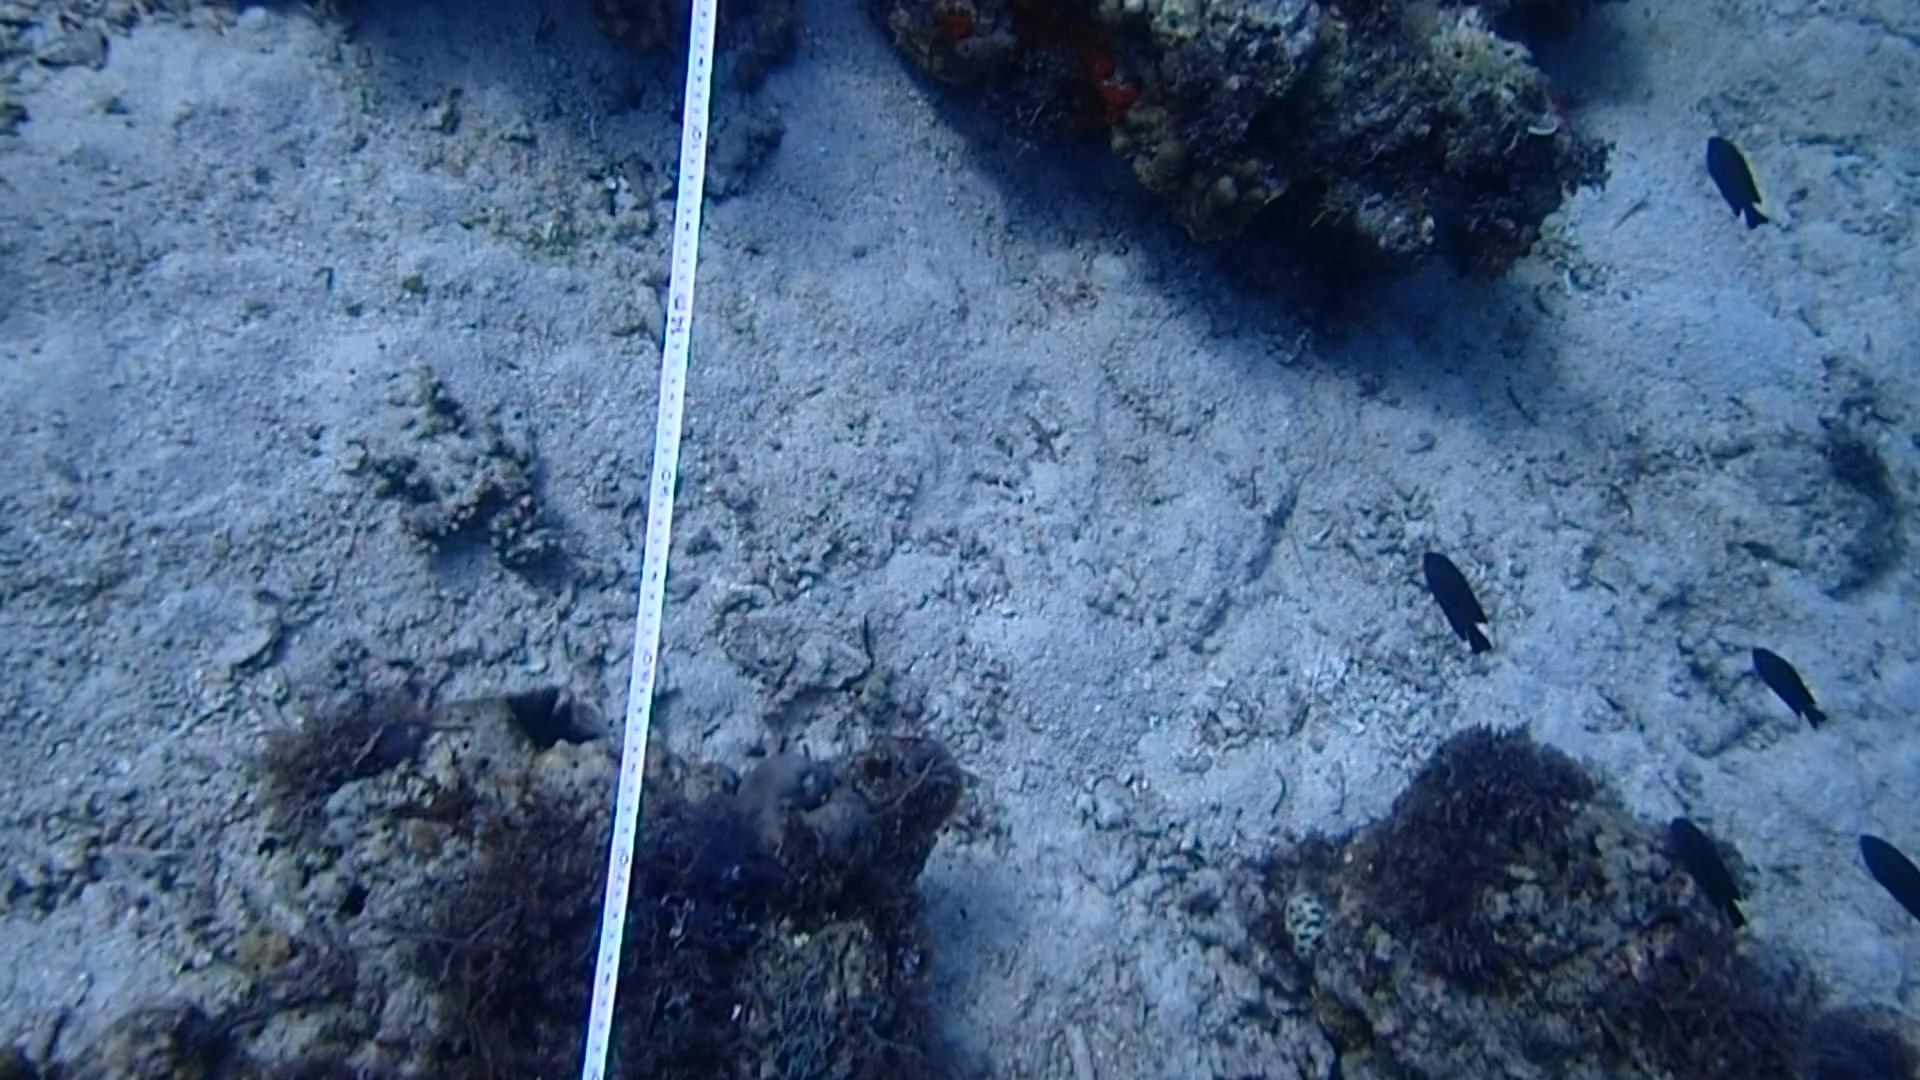Dark Fish: (1667, 804, 1755, 940), (1414, 545, 1495, 666), (1698, 119, 1774, 244), (1738, 637, 1833, 733), (1853, 818, 1920, 924)
